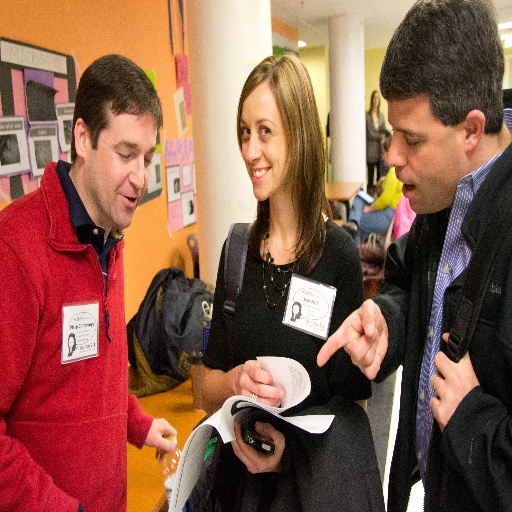hand: (316, 294, 392, 392), (427, 330, 480, 435), (230, 415, 285, 474), (234, 358, 285, 410), (144, 415, 178, 464), (360, 206, 369, 212)
